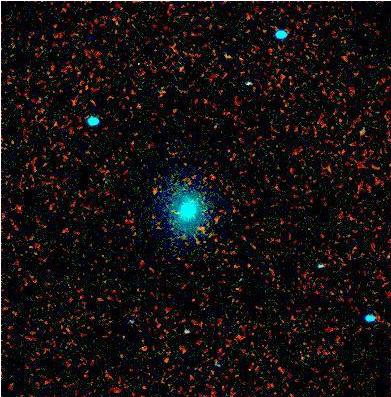star: (138, 176, 168, 206)
